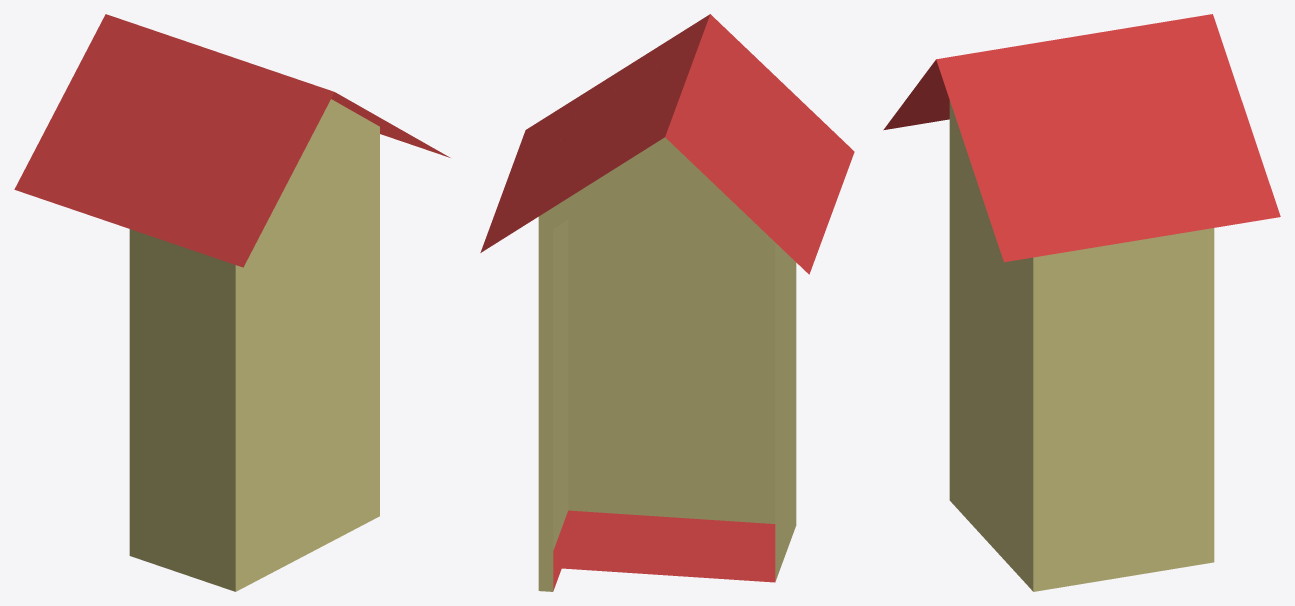
3 views of the same model, side by side, from view 1: azimuth 30°, elevation 25°; view 2: azimuth 150°, elevation 25°; view 3: azimuth 270°, elevation 25° (orthographic).
Bounding box in the file's own units: 8.15 × 7.73 × 10.44.
